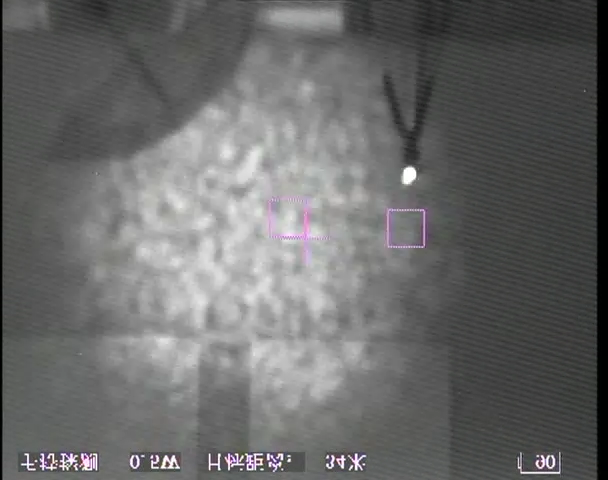my: (398, 164, 418, 185)
